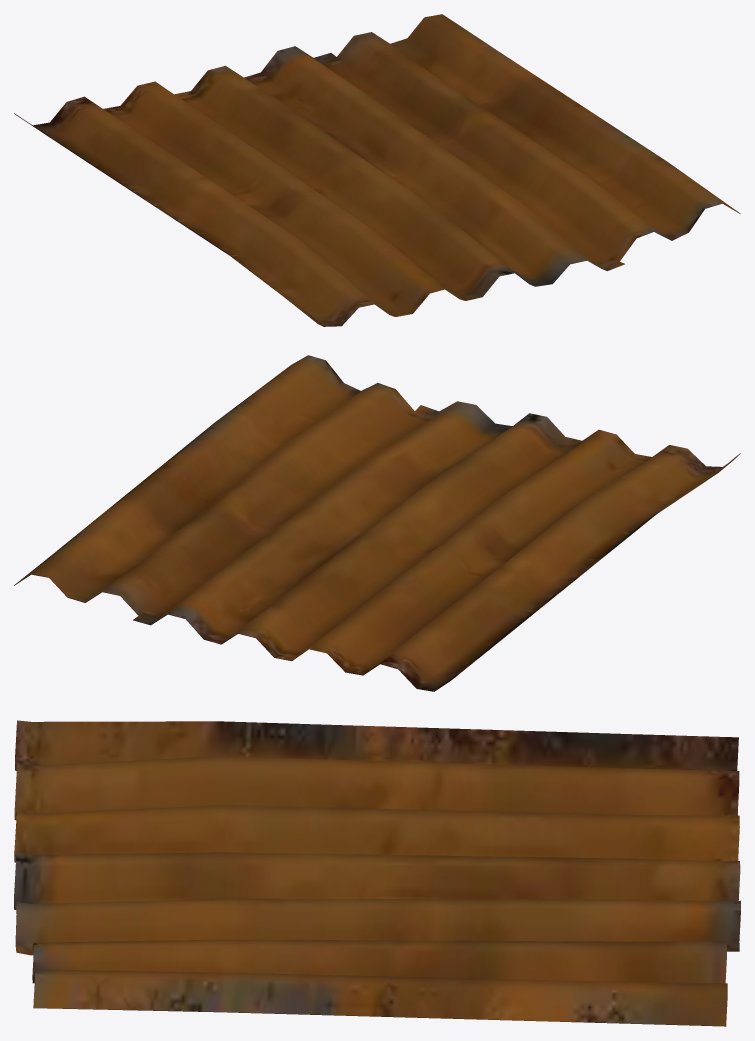
File: Metal_Sheet_06.glb
The picture shows the model from 3 angles, top to bottom: view 1: azimuth 30°, elevation 25°; view 2: azimuth 150°, elevation 25°; view 3: azimuth 270°, elevation 25°; orthographic projection. The views are drawn at different scales.
Visible parts, largest first — view 1: Metal_Sheet_06; view 2: Metal_Sheet_06; view 3: Metal_Sheet_06.
Part boxes in pixels (x1=…): Metal_Sheet_06: x1=14, y1=14, x2=740, y2=326; Metal_Sheet_06: x1=14, y1=355, x2=740, y2=691; Metal_Sheet_06: x1=14, y1=720, x2=740, y2=1026.
Bounding box in the file's own units: 2.43 × 0.184 × 2.76.
Materials: 1 (1 with a texture image).
